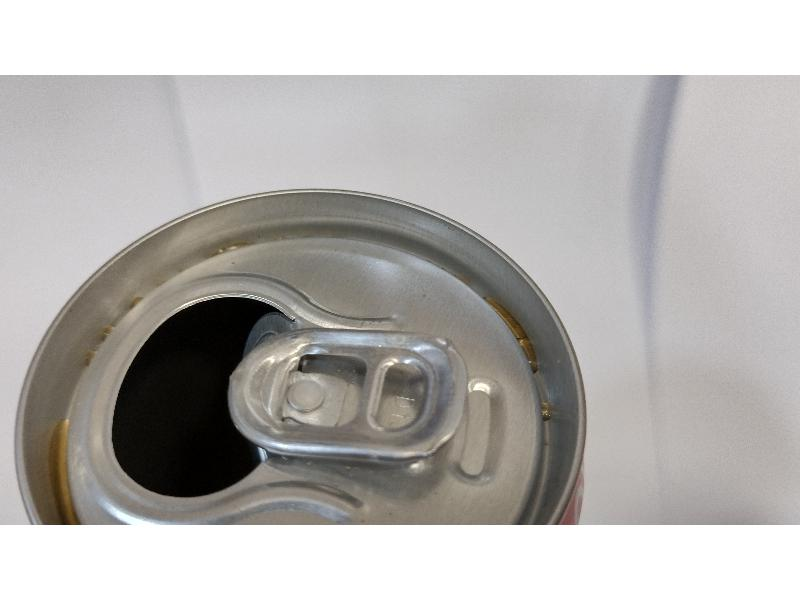can: (10, 174, 601, 529)
